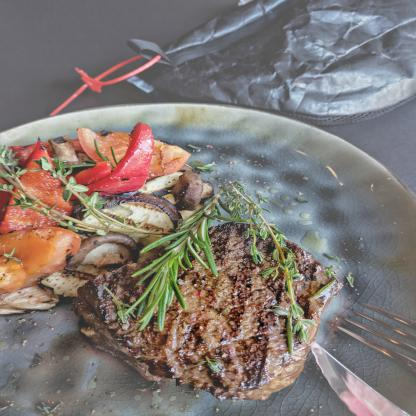Carne: (79, 219, 335, 401)
